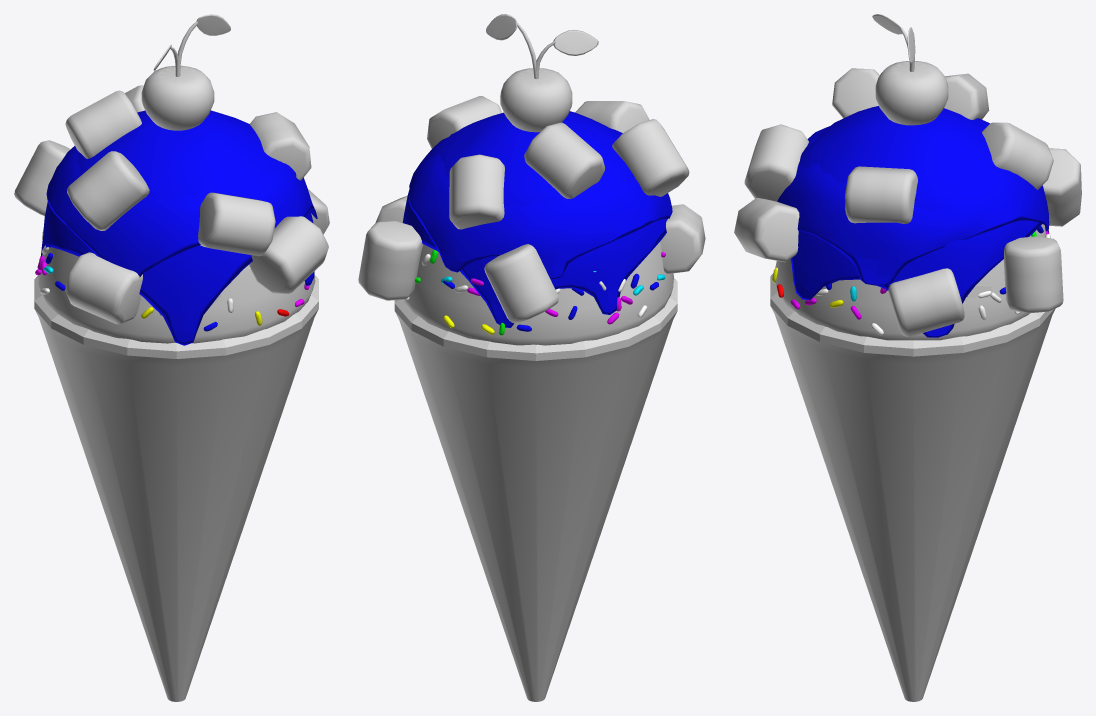
File: IceCreamComplete.fbx
The picture shows the model from 3 angles, left to right: view 1: azimuth 30°, elevation 25°; view 2: azimuth 150°, elevation 25°; view 3: azimuth 270°, elevation 25°; orthographic projection.
Visible parts, largest first — view 1: Cone, Marshmellow, Sauce, Sauce2, Scoop, Cherry, Leaf; view 2: Cone, Marshmellow, Sauce2, Sauce, Scoop, Cherry, Leaf1, Leaf; view 3: Cone, Marshmellow, Sauce, Sauce2, Scoop, Cherry.
Boxes of the visible parts, <box> form: Cone: <box>34,275,318,701</box>; Marshmellow: <box>14,85,329,324</box>; Sauce: <box>40,110,314,345</box>; Sauce2: <box>46,146,317,277</box>; Scoop: <box>38,247,315,343</box>; Cherry: <box>141,65,214,130</box>; Leaf: <box>196,14,230,35</box>; Cone: <box>394,278,677,701</box>; Marshmellow: <box>358,96,705,323</box>; Sauce2: <box>408,128,672,279</box>; Sauce: <box>402,111,667,327</box>; Scoop: <box>404,242,673,345</box>; Cherry: <box>500,68,572,132</box>; Leaf1: <box>553,30,598,55</box>; Leaf: <box>486,14,517,40</box>; Cone: <box>770,273,1055,701</box>; Marshmellow: <box>734,68,1081,336</box>; Sauce: <box>790,106,1048,337</box>; Sauce2: <box>777,126,1049,285</box>; Scoop: <box>775,224,1045,340</box>; Cherry: <box>875,61,948,125</box>.
Size of the model in its own units: 73.65 by 167 by 76.88.
